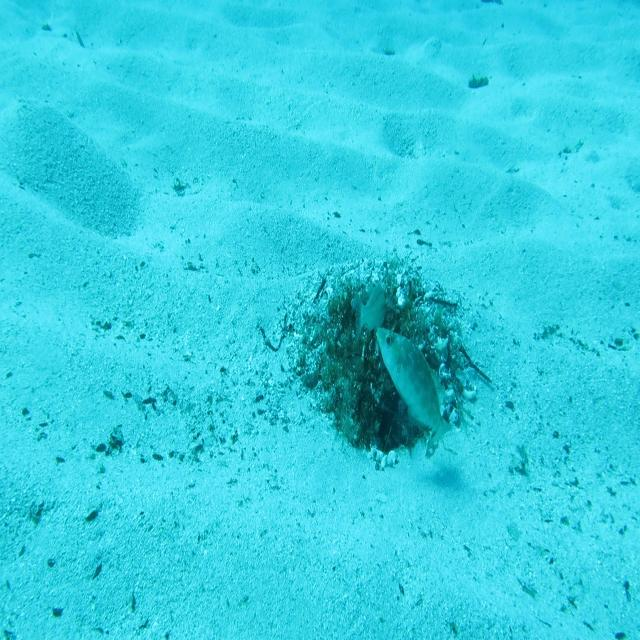BEND: (375, 324, 455, 454)
core_nest: (353, 305, 396, 355)
female: (353, 276, 387, 346)
nest: (279, 240, 486, 483)
vegetation: (466, 75, 491, 92)
